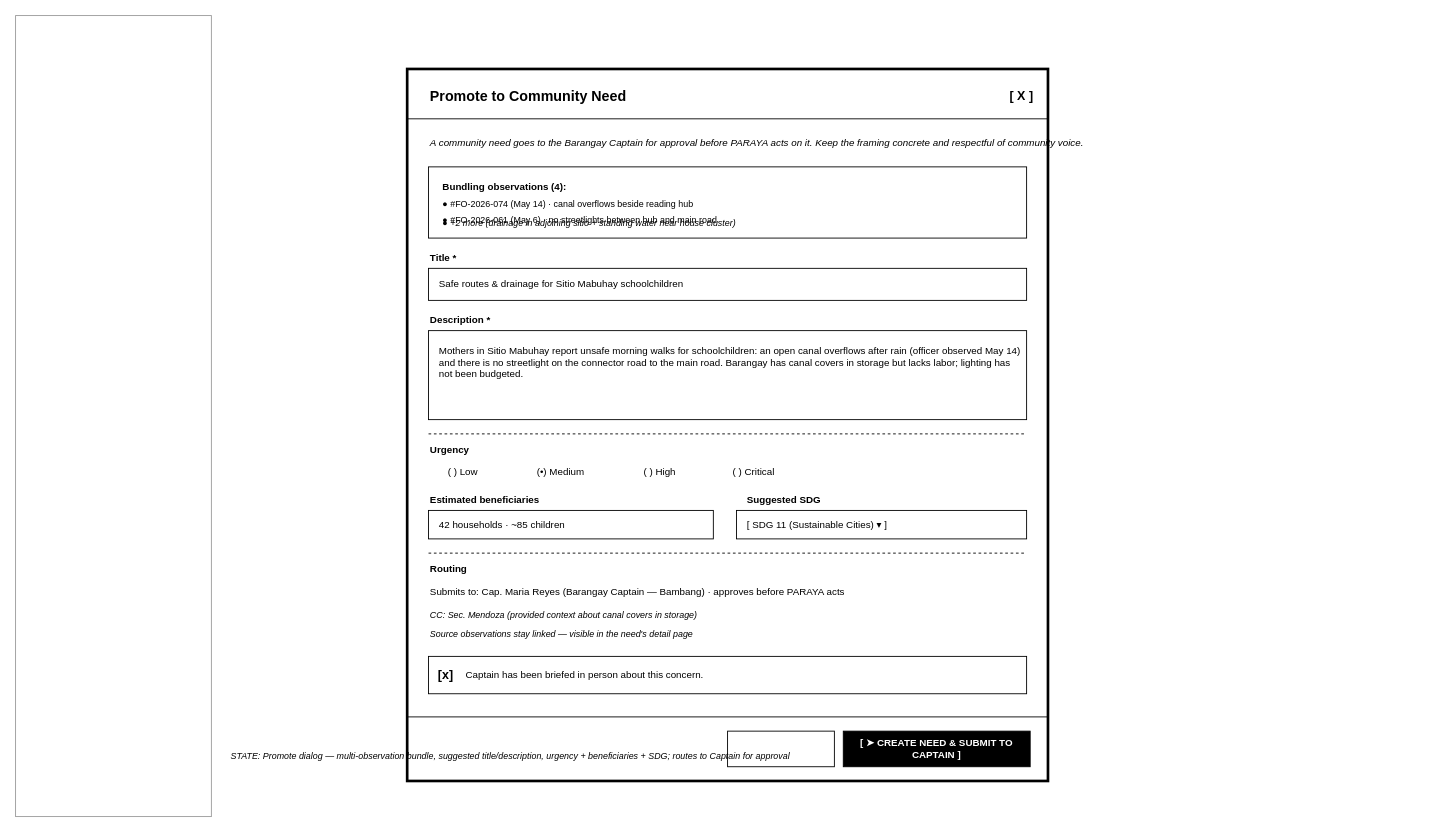
The diagram is 1437 pixels wide and 832 high, and some of its shapes have lost their labels. Each missing label, with the box of its shape:
[ CANCEL ]: (727, 730, 834, 767)
AGAPE: (15, 15, 211, 817)
